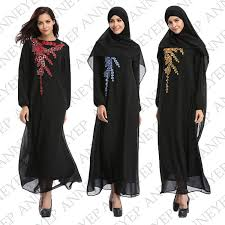middle_eastern_Female: (34, 11, 58, 38), (165, 11, 186, 36), (109, 13, 125, 33)
